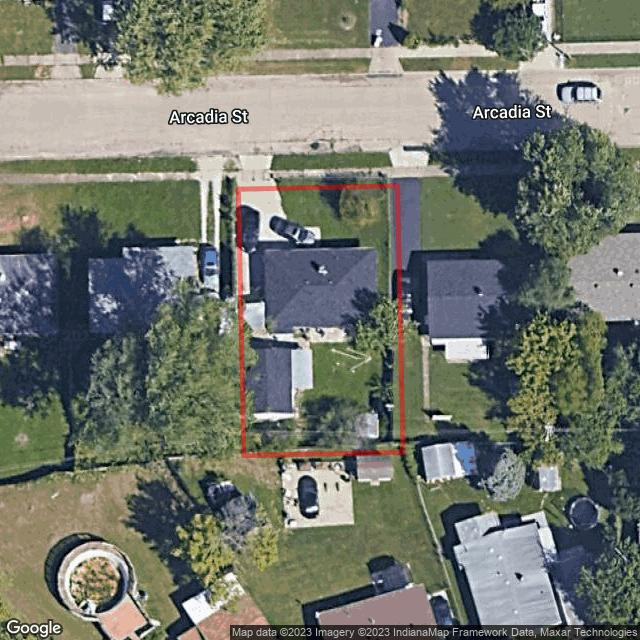Driveway: (241, 190, 351, 410)
Extra Driveway: (239, 157, 275, 186)
Extra Lawn: (272, 151, 387, 170), (276, 178, 349, 185)
Extra Sidewalk: (271, 169, 392, 179)
House: (250, 245, 378, 332)
Other: (246, 346, 291, 412)
